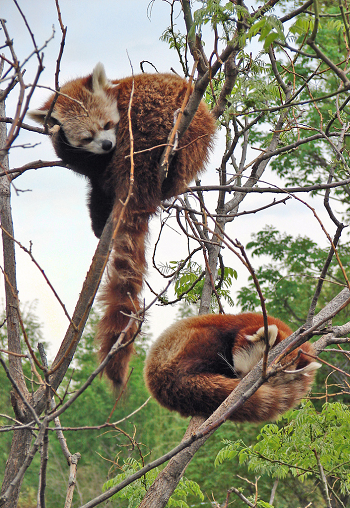red_panda: (46, 68, 204, 365), (145, 311, 323, 426)
